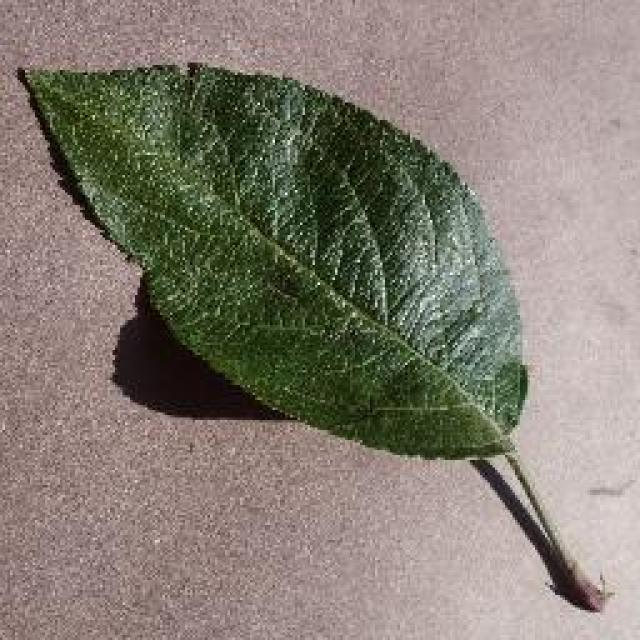apple healthy: (15, 58, 610, 612)
